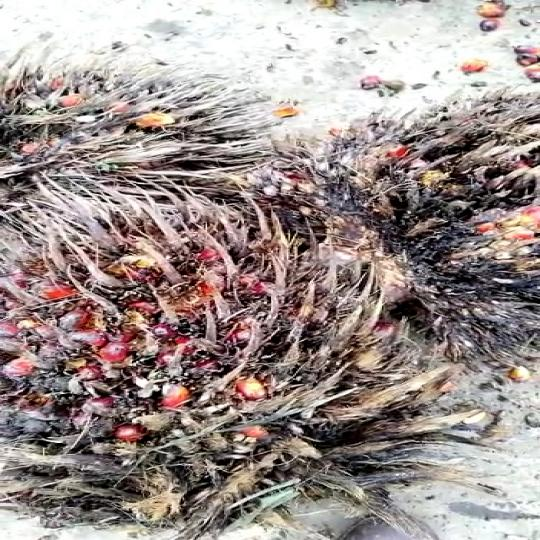terlalu masak: (0, 213, 416, 540), (0, 69, 290, 202)
